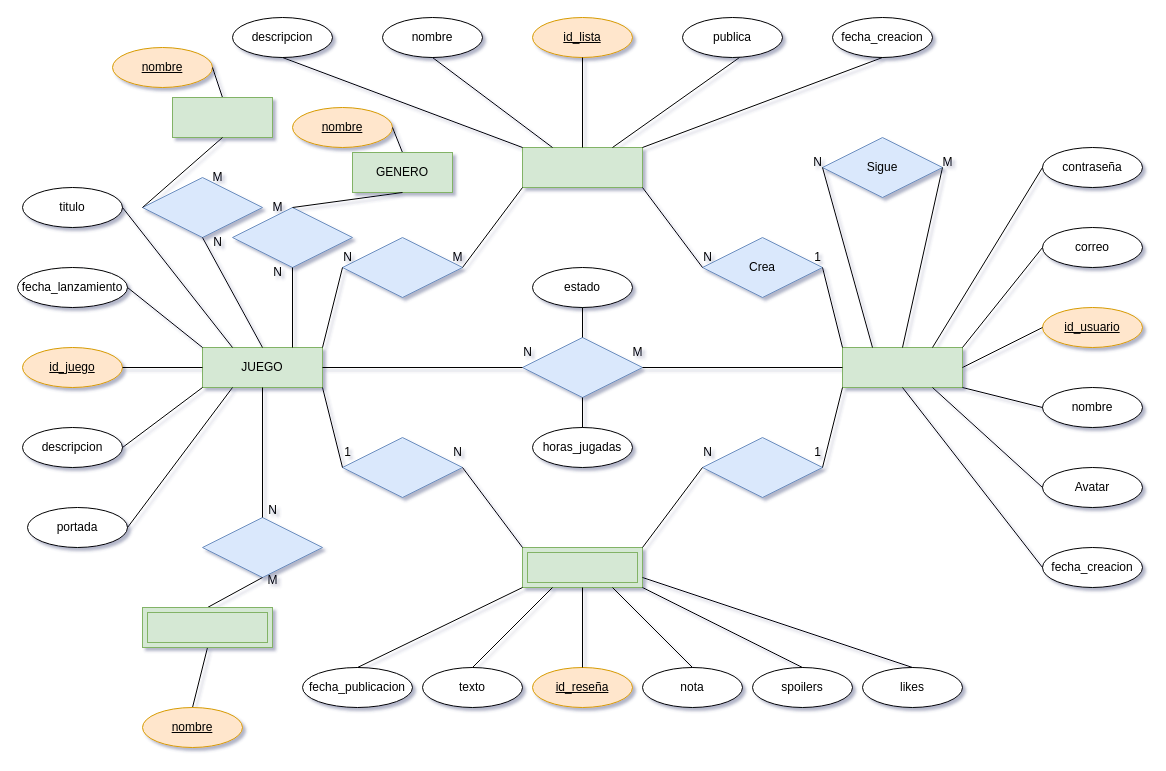
The diagram is 1166 pixels wide and 771 high, and some of its shapes have lost their labels. The shapes that lost their labels are listed below. From the top down, each one's box as (x1, y1, x2, y2) in pixels, then its label:
(172, 96, 272, 138): PLATAFORMA
(522, 146, 642, 188): LISTA
(142, 176, 262, 238): Lanza
(232, 206, 352, 268): Pertenece
(342, 236, 462, 298): Contiene
(522, 336, 642, 398): Guarda
(842, 346, 962, 388): USUARIO
(342, 436, 462, 498): Recibe
(702, 436, 822, 498): Escribe
(202, 516, 322, 578): Desarrolla
(522, 546, 642, 588): RESEÑA
(142, 606, 272, 648): DESARROLLADORA
